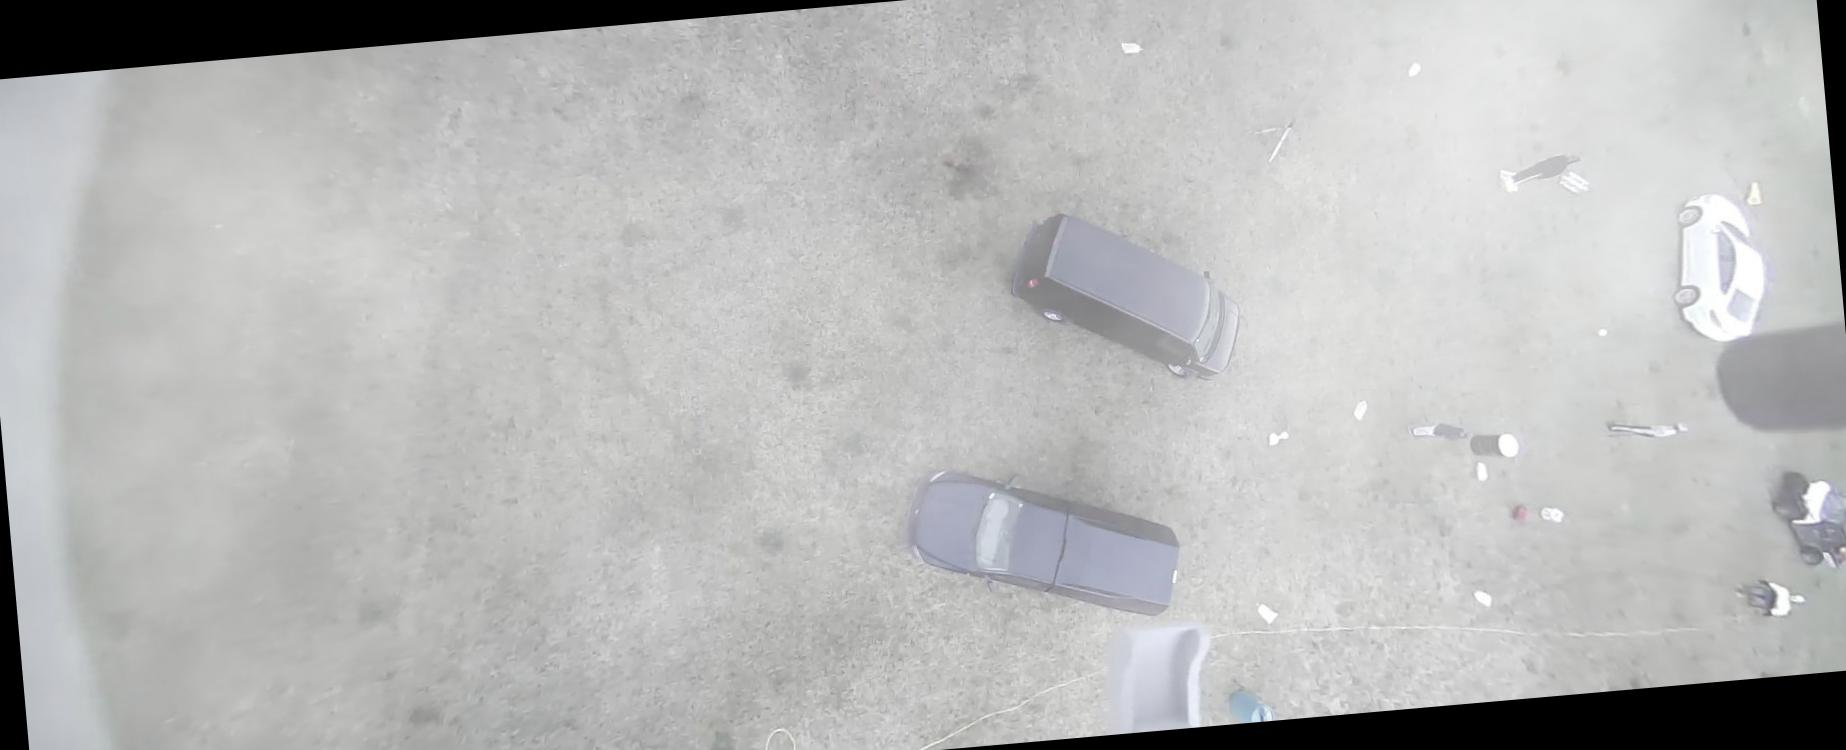vehicle: (899, 448, 1186, 638), (1003, 198, 1246, 398), (1662, 190, 1774, 346), (1767, 466, 1845, 576)
